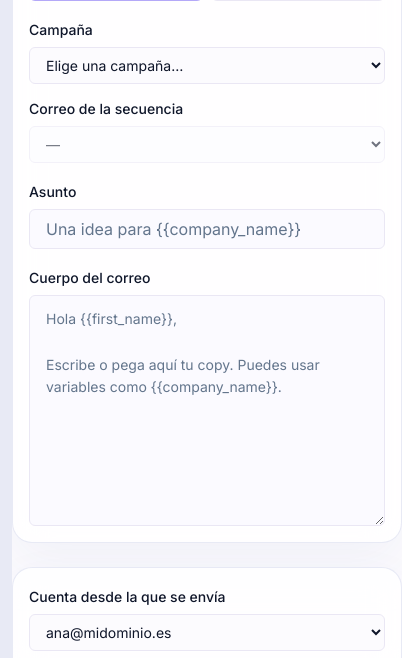
Test case: Entregabilidad (cliente) › elige campaña y correo → previsualiza con los datos cambiados y los envía así
Later steps or results of the test are not shown.
Select "Talleres Valencia" in the dropdown labelled "Campaña" at (207, 66), box [29,47,385,84]
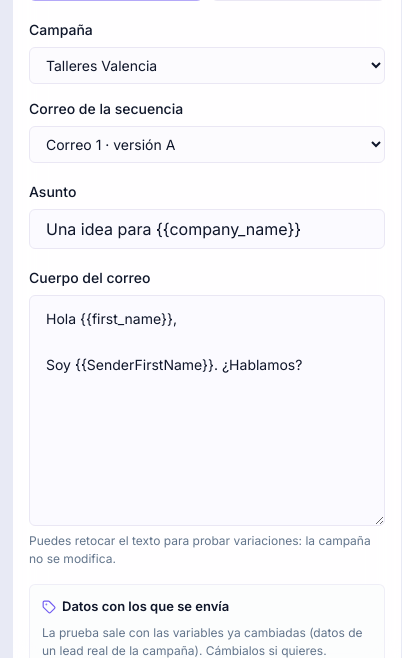
Check: the field labelled "Asunto" holds "Una idea para {{company_name}}", box [29,209,385,249]
Select "Correo 2" in the dropdown labelled "Correo de la secuencia" at (207, 144), box [29,126,385,163]
(page scrolled)
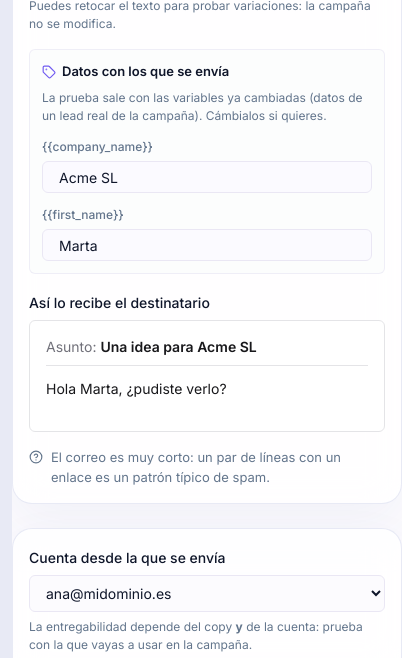
// El cliente cambia un dato de ejemplo y lanza la prueba.
Replace the text in the field labelled "{{first_name}}" with "Lucía" at (207, 245), box [42,229,372,261]
(page scrolled)
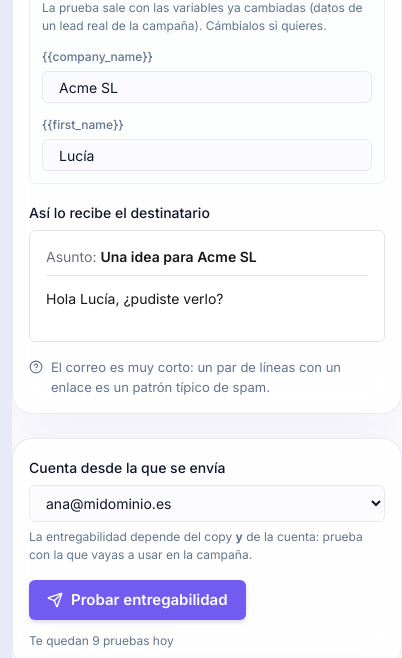
Check: the text "Hola Lucía, ¿pudiste verlo?" is shown, box [46,290,224,307]
